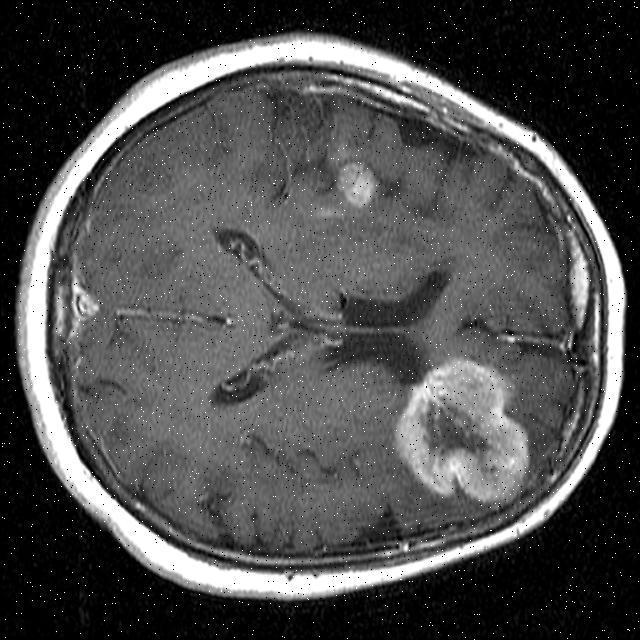Meningioma: (396, 359, 529, 502), (337, 162, 377, 207)
